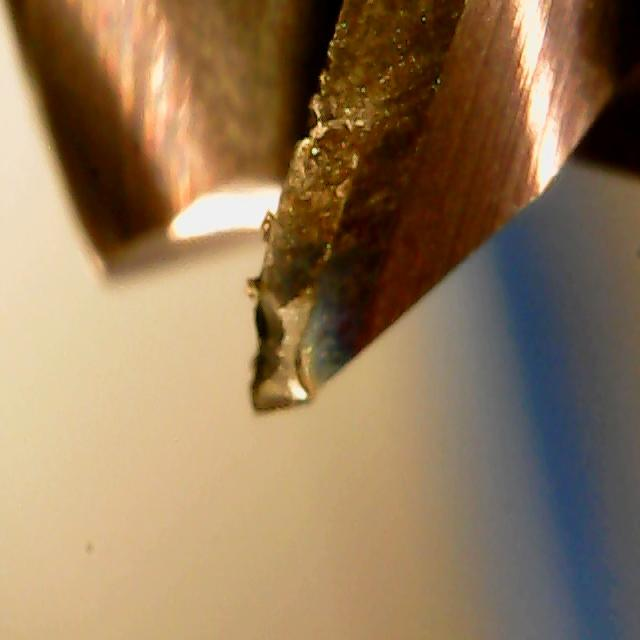Tool-wear-class-2: (241, 47, 370, 417)
